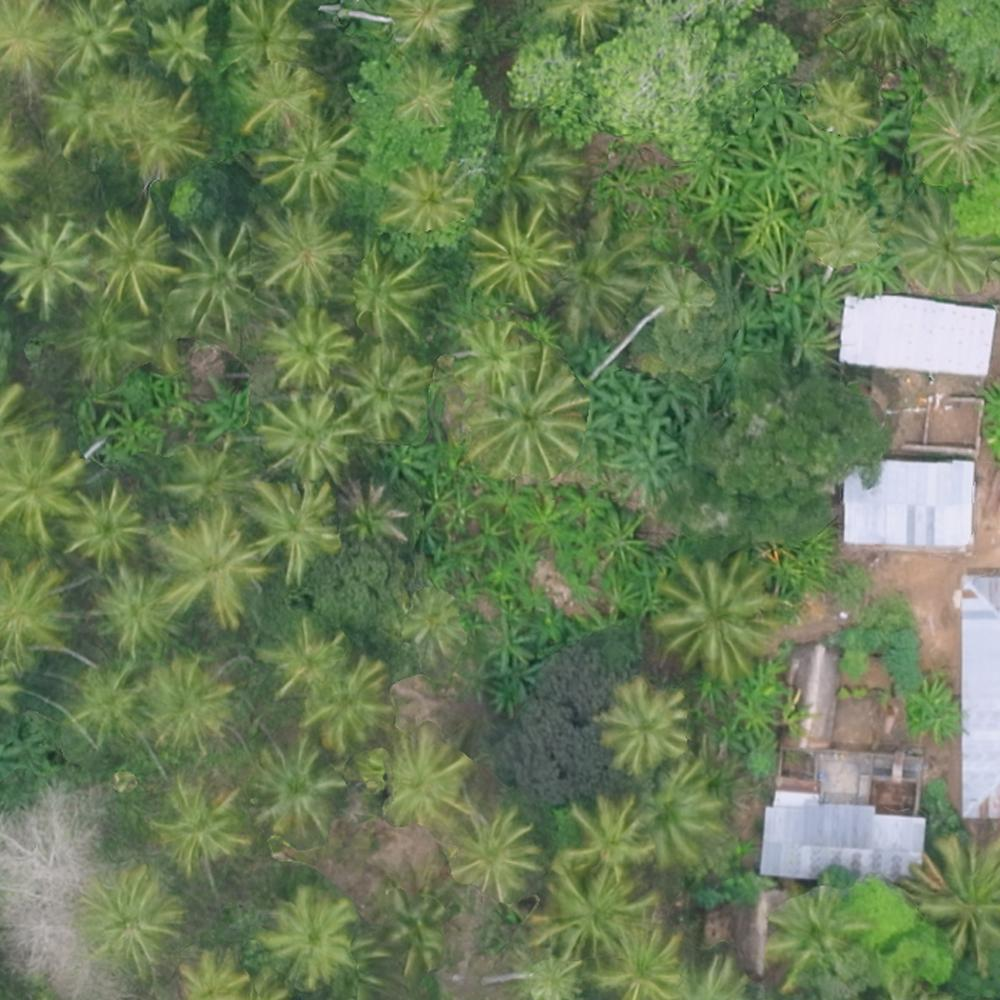Palm: (654, 556, 775, 681), (465, 371, 587, 479), (148, 515, 263, 628), (551, 210, 649, 328), (916, 831, 1000, 968), (168, 217, 266, 331), (530, 863, 644, 960), (890, 188, 994, 293), (245, 474, 345, 579), (447, 811, 548, 910), (83, 872, 181, 972), (254, 110, 354, 207), (245, 743, 340, 845), (469, 200, 561, 305), (5, 221, 99, 319), (3, 425, 83, 540), (636, 765, 726, 866), (345, 241, 435, 341), (252, 204, 348, 296), (85, 210, 175, 306), (558, 791, 655, 880), (911, 79, 999, 176), (340, 342, 426, 441), (264, 888, 351, 981), (379, 732, 462, 829), (264, 392, 353, 480), (154, 782, 241, 871), (1, 560, 74, 665), (148, 658, 234, 745), (299, 662, 387, 747), (96, 567, 182, 652), (603, 681, 688, 767), (44, 74, 132, 156), (262, 304, 348, 386), (267, 615, 348, 698), (594, 923, 680, 1000), (236, 60, 319, 139), (70, 663, 153, 742), (380, 167, 475, 236), (774, 893, 861, 966), (458, 313, 534, 396), (62, 492, 144, 568), (163, 443, 246, 514), (142, 8, 217, 84), (226, 5, 303, 71), (60, 1, 131, 69), (1, 3, 67, 75), (387, 58, 460, 123), (649, 261, 714, 322), (807, 210, 875, 268), (810, 74, 877, 132)
